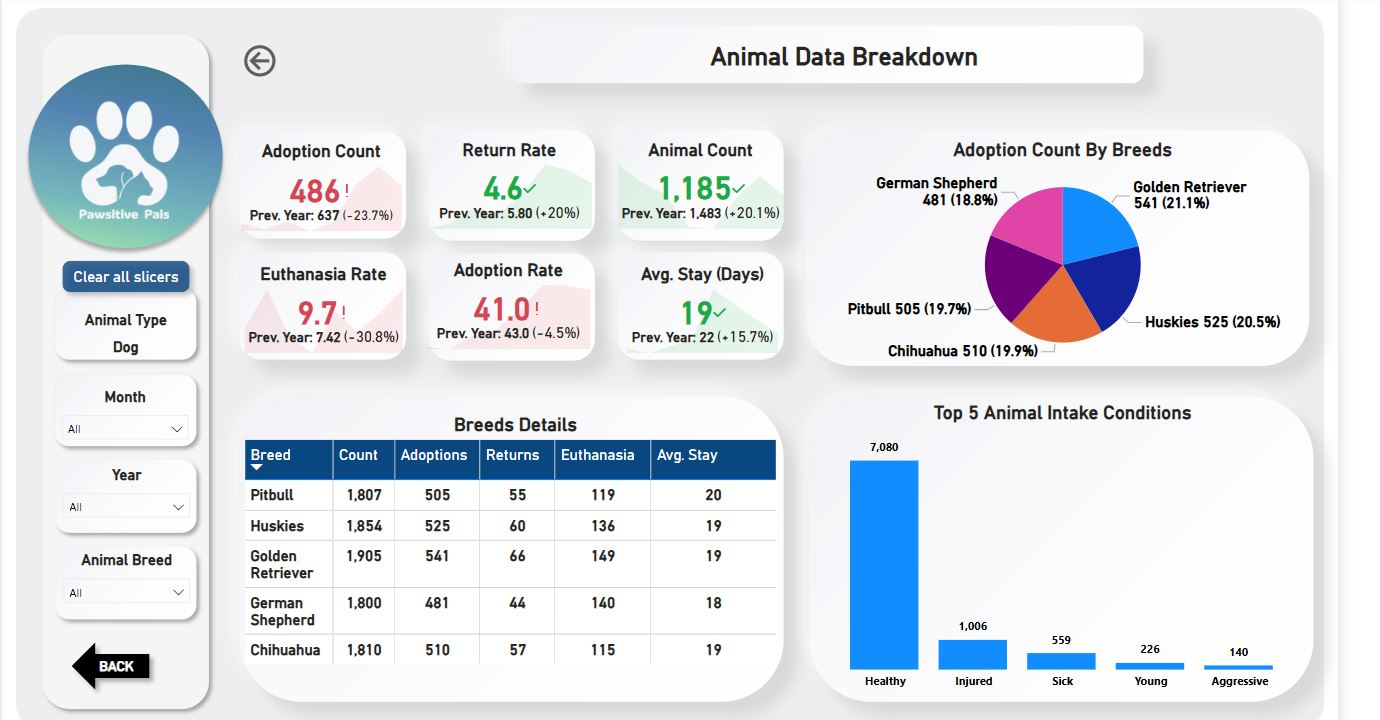

The dashboard page shown, as its layout file describes it:
{"tool":"powerbi","page":{"name":"Animal Details","canvas":[1280,720],"ordinal":2},"visuals":[{"type":"textbox","box":[615,38.7,384.2,44.7],"z":0},{"type":"image","box":[21.2,63.8,193.8,182.5],"z":1000},{"type":"actionButton","box":[227.5,43.8,100,40],"z":2000},{"type":"columnChart","title":"Top 5 Animal Intake Conditions","fields":{"Category":["Dim intake condition.intakecondition"],"Y":["MeasureTable.Animal_Count"]},"box":[773.8,390,486.2,285],"z":3000},{"type":"kpi","title":"Euthanasia Rate","fields":{"TrendLine":["Date.Year"],"Indicator":["MeasureTable.EuthanasiaRate"],"Goal":["MeasureTable.EuthanasiaRate SPLY"]},"box":[227.1,257.4,162,90.9],"z":4000},{"type":"kpi","title":"Adoption Rate","fields":{"TrendLine":["Date.Year"],"Goal":["MeasureTable.AdoptionRate SPLY"],"Indicator":["MeasureTable.AdoptionRate"]},"box":[401.7,252.5,168.3,91.7],"z":5000},{"type":"kpi","title":"Return Rate","fields":{"TrendLine":["Date.Year"],"Indicator":["MeasureTable.ReturnRate"],"Goal":["MeasureTable.ReturnRate SPLY"]},"box":[402.5,138.8,167.5,91.2],"z":6000},{"type":"kpi","title":"Adoption Count","fields":{"Indicator":["MeasureTable.AdoptionCount"],"Goal":["MeasureTable.AdoptionCount SPLY"],"TrendLine":["Date.Year"]},"box":[225,139.2,163.3,91.7],"z":7000},{"type":"kpi","title":"Avg. Stay (Days)","fields":{"TrendLine":["Date.Year"],"Indicator":["MeasureTable.AverageLengthOfStay"],"Goal":["MeasureTable.AverageLengthofstay SPLY"]},"box":[593.3,257.5,155,90.8],"z":8000},{"type":"kpi","title":"Animal Count","fields":{"TrendLine":["Date.Year"],"Indicator":["MeasureTable.Animal_Count"],"Goal":["MeasureTable.Animal_Count SPLY"]},"box":[585,138.8,168.8,91.2],"z":9000},{"type":"tableEx","title":"Breeds Details","fields":{"Values":["Dim animal.animal_breed","MeasureTable.Animal_Count","MeasureTable.AdoptionCount","MeasureTable.ReturneesCount","MeasureTable.EuthanasiaCount","MeasureTable.AverageLengthOfStay"]},"box":[227.5,401.2,530,252.5],"z":10000},{"type":"pieChart","title":"Adoption Count By Breeds","fields":{"Category":["Dim animal.animal_breed"],"Y":["MeasureTable.AdoptionCount"]},"box":[773.8,138.8,486.2,221.2],"z":11000},{"type":"slicer","title":"Month","fields":{"Values":["Date.Month"]},"box":[47.1,377,141.4,64],"z":12000},{"type":"slicer","title":"Year","fields":{"Values":["Date.Year"]},"box":[48.3,451.9,141.4,64],"z":13000},{"type":"shape","box":[58,611.4,93,64],"z":14000},{"type":"slicer","title":"Animal Breed","fields":{"Values":["Dim animal.animal_breed"]},"box":[48.3,532.9,141.4,65.2],"z":15000},{"type":"card","title":"Animal Type","fields":{"Values":["Min(Dim animal.type)"]},"box":[47.1,303.3,142.6,62.8],"z":17000},{"type":"actionButton","box":[49.5,246.5,140.2,48.3],"z":18001}]}

Visuals, with their boxes on the page's 1280x720 design canvas (x1, y1, x2, y2). These are canvas units, not pixel positions in the 1380x720 screenshot, which may show the page scaled, cropped or inside an application window:
textbox: region(615, 39, 999, 83)
image: region(21, 64, 215, 246)
actionButton: region(228, 44, 328, 84)
"Top 5 Animal Intake Conditions" columnChart: region(774, 390, 1260, 675)
"Euthanasia Rate" kpi: region(227, 257, 389, 348)
"Adoption Rate" kpi: region(402, 252, 570, 344)
"Return Rate" kpi: region(402, 139, 570, 230)
"Adoption Count" kpi: region(225, 139, 388, 231)
"Avg. Stay (Days)" kpi: region(593, 258, 748, 348)
"Animal Count" kpi: region(585, 139, 754, 230)
"Breeds Details" tableEx: region(228, 401, 758, 654)
"Adoption Count By Breeds" pieChart: region(774, 139, 1260, 360)
"Month" slicer: region(47, 377, 188, 441)
"Year" slicer: region(48, 452, 190, 516)
shape: region(58, 611, 151, 675)
"Animal Breed" slicer: region(48, 533, 190, 598)
"Animal Type" card: region(47, 303, 190, 366)
actionButton: region(50, 246, 190, 295)
